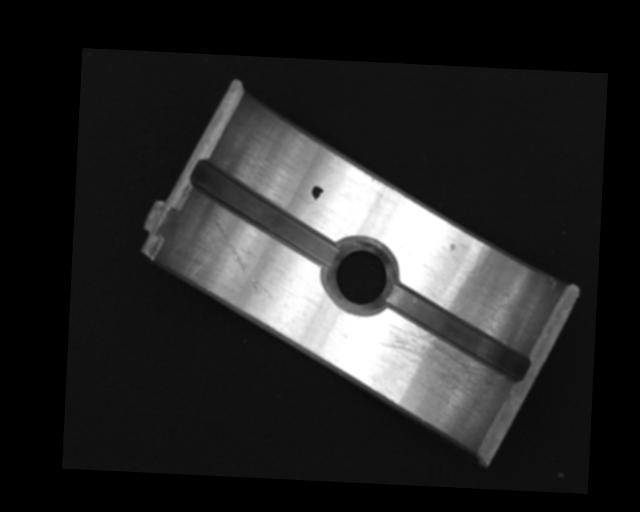blot: (311, 185, 325, 201)
bruise: (449, 242, 456, 252)
gap: (186, 158, 340, 266), (384, 283, 532, 381)
hole: (324, 238, 396, 315)
nick: (208, 218, 277, 299)
scratch: (362, 320, 507, 419)
